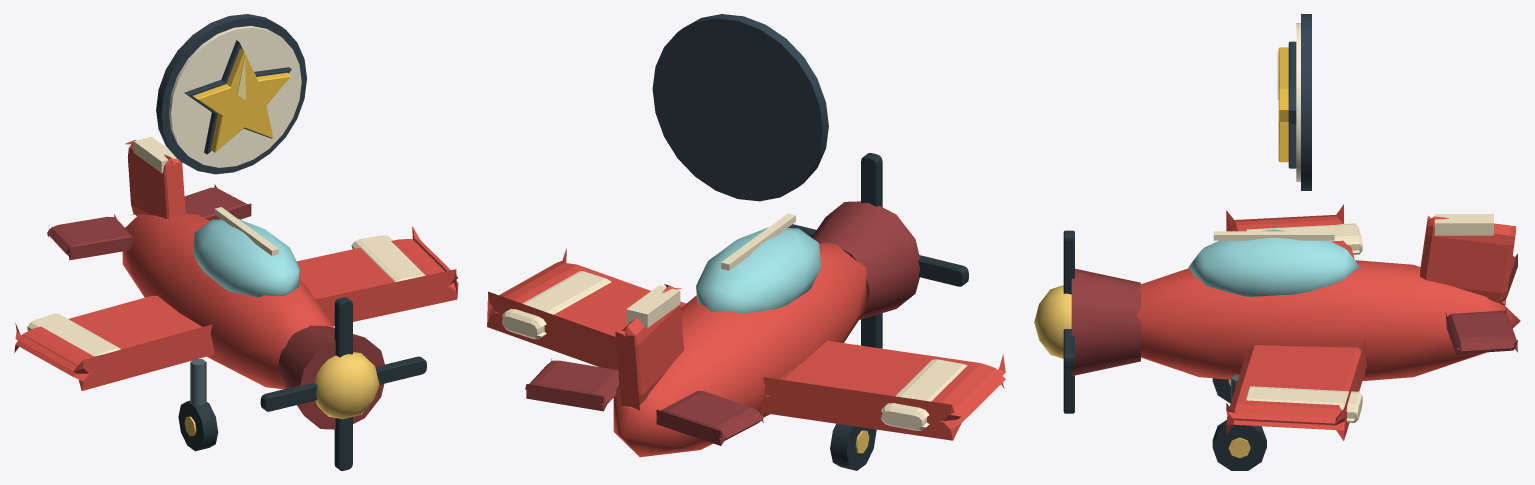
Rendered from aircraft.glb.
3 renders of one model, left to right at view 1: azimuth 30°, elevation 25°; view 2: azimuth 150°, elevation 25°; view 3: azimuth 270°, elevation 25°, orthographic. The views are drawn at different scales.
Visible parts, largest first — view 1: airframe-team, team-badge-plate, airframe-dark, airframe-glass, team-badge-outline, airframe-cream, team-badge-gold, propeller-rubber, airframe-gold, airframe-rubber, airframe-metal; view 2: airframe-team, team-badge-outline, airframe-dark, airframe-cream, airframe-glass, propeller-rubber, airframe-rubber; view 3: airframe-team, airframe-dark, airframe-glass, airframe-cream, team-badge-outline, airframe-gold, airframe-rubber, propeller-rubber, team-badge-gold, team-badge-plate.
Part boxes in pixels (x1,y1,x2,y2): airframe-team: (14, 140, 458, 390); team-badge-plate: (169, 26, 301, 167); airframe-dark: (47, 184, 384, 429); airframe-glass: (193, 219, 300, 297); team-badge-outline: (156, 14, 306, 174); airframe-cream: (27, 136, 425, 356); team-badge-gold: (193, 48, 291, 152); propeller-rubber: (260, 297, 426, 470); airframe-gold: (184, 352, 379, 436); airframe-rubber: (178, 400, 218, 451); airframe-metal: (190, 359, 206, 405); airframe-team: (487, 242, 1005, 457); team-badge-outline: (652, 14, 828, 201); airframe-dark: (525, 201, 920, 445); airframe-cream: (502, 213, 967, 430); airframe-glass: (696, 227, 820, 313); propeller-rubber: (788, 153, 968, 348); airframe-rubber: (830, 423, 876, 470); airframe-team: (1137, 204, 1520, 440); airframe-dark: (1071, 253, 1517, 375); airframe-glass: (1188, 229, 1359, 296); airframe-cream: (1213, 214, 1493, 422); team-badge-outline: (1288, 14, 1311, 190); airframe-gold: (1034, 285, 1250, 458); airframe-rubber: (1212, 378, 1266, 470); propeller-rubber: (1063, 230, 1074, 413); team-badge-gold: (1278, 47, 1288, 162); team-badge-plate: (1296, 23, 1300, 181).
Size of the model in its own units: 2 by 1.84 by 1.97.
